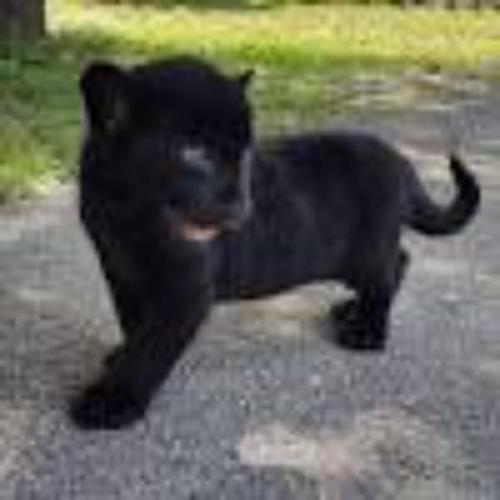panther-endangered: (72, 56, 481, 430)
